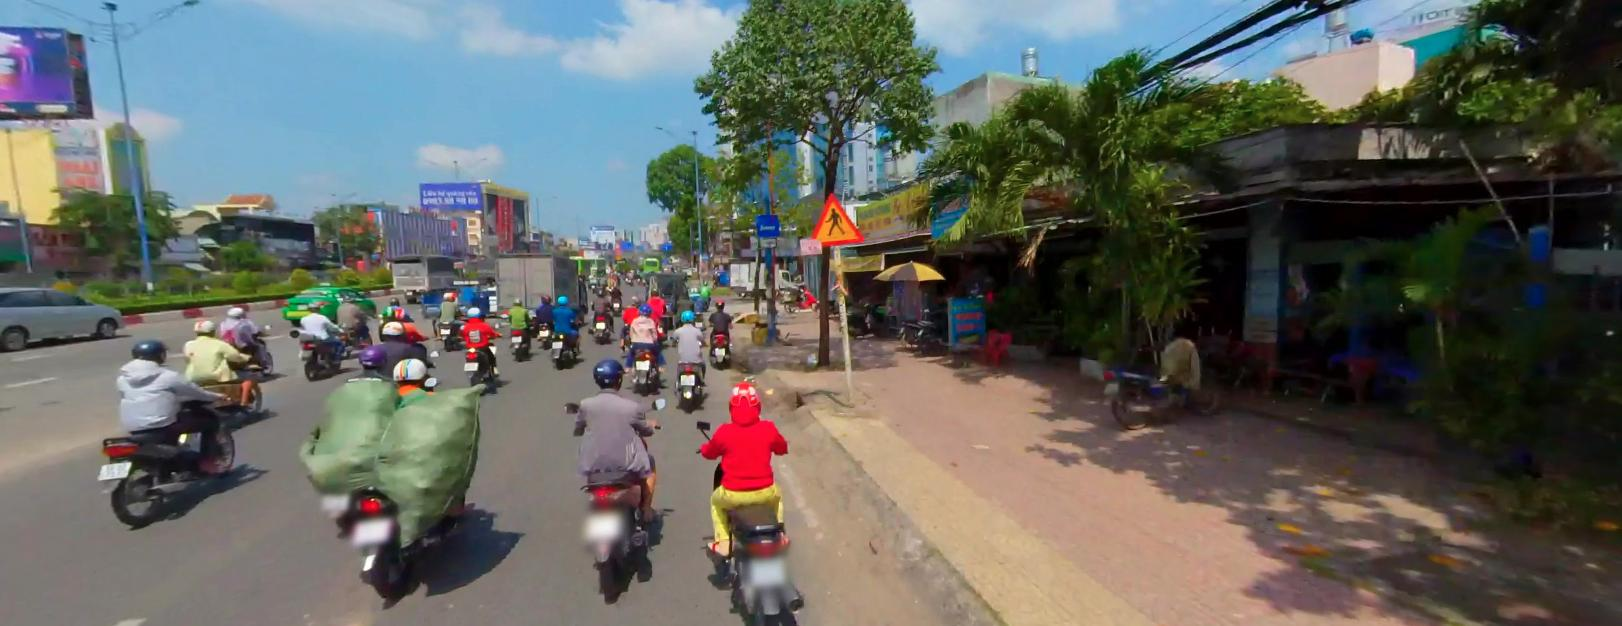Nguy hiem: (807, 190, 865, 244)
